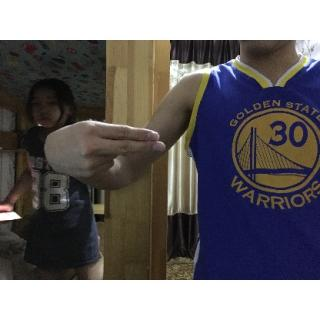AYN: (42, 115, 167, 180)
